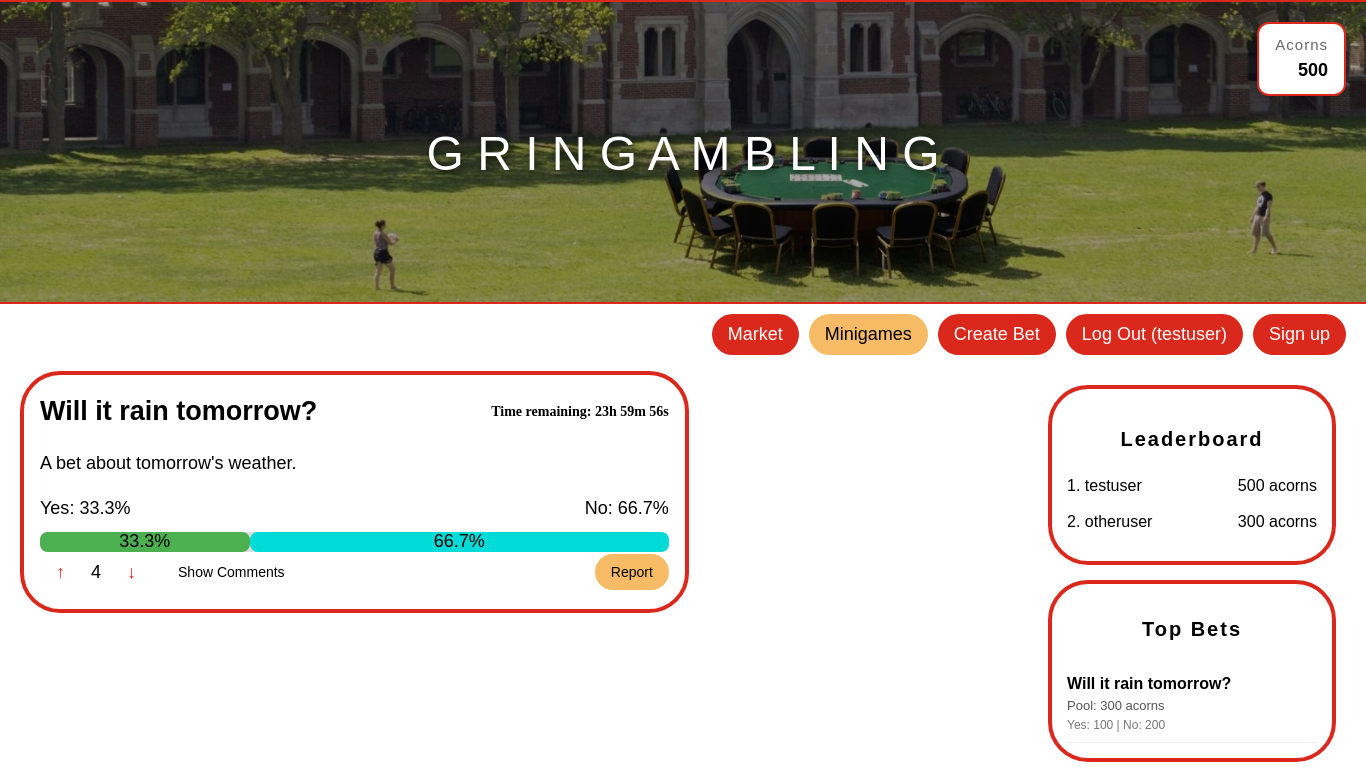
Test: logout › clears token and shows Login button after logout
The width and height of the screenshot is (1366, 768).
Click the button "Log Out (testuser)" at (1154, 334), box [1066,314,1243,355]
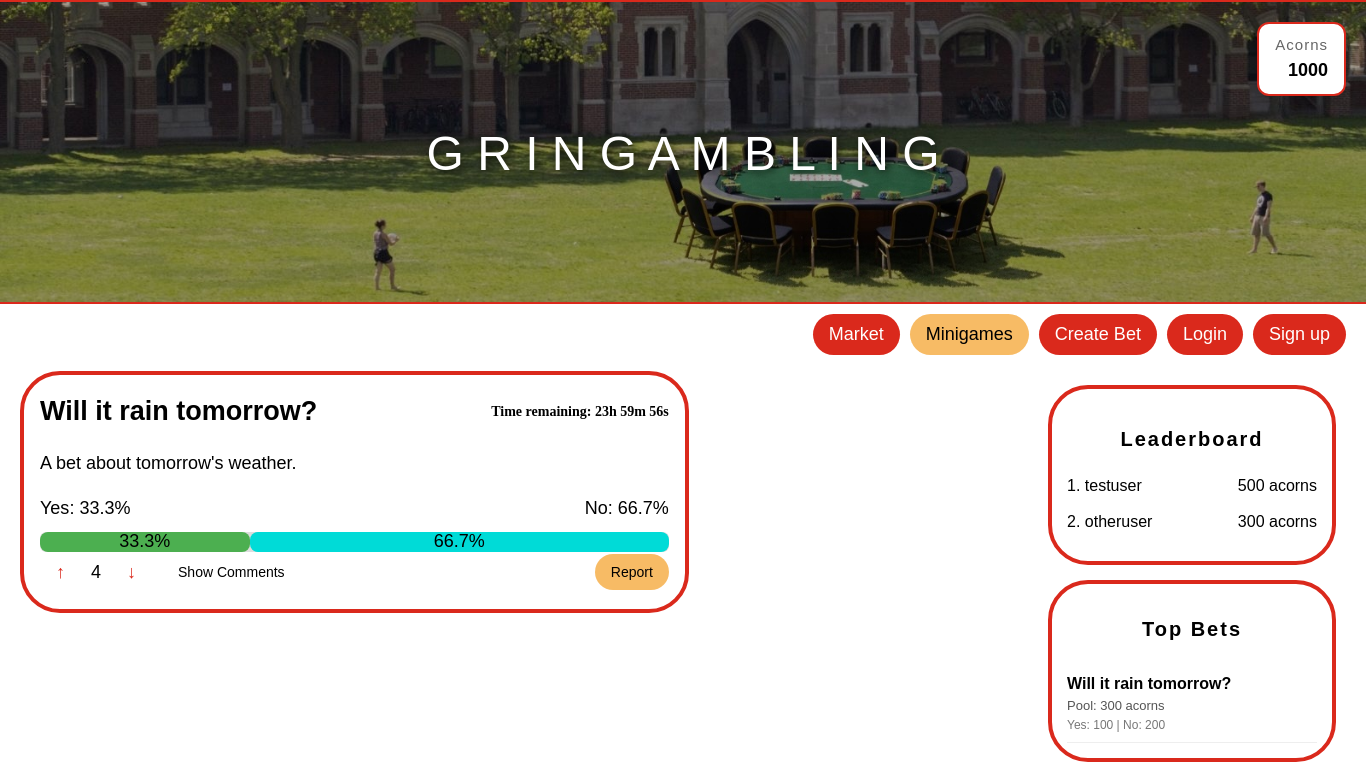
Expected: the button "Login" is shown, [1167,314,1243,355]
